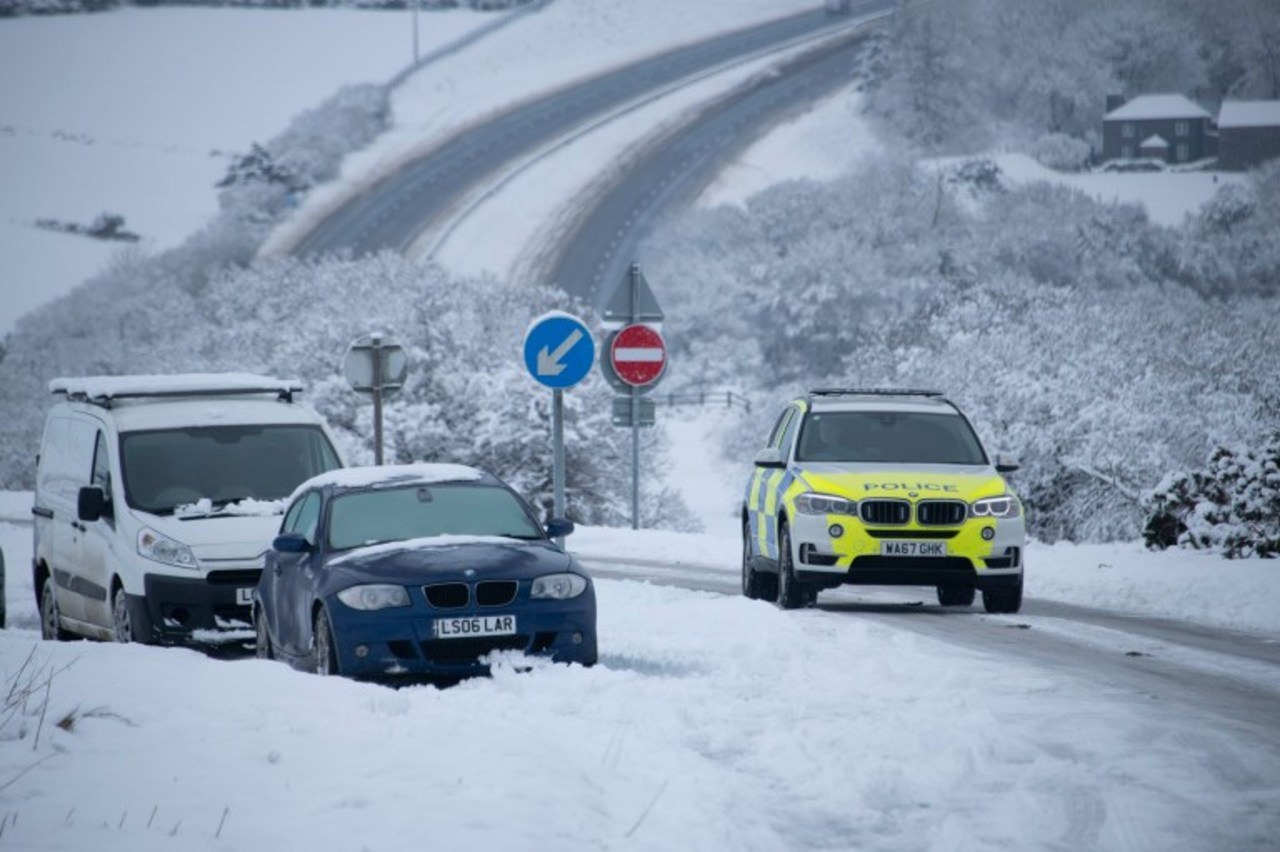car: (242, 460, 605, 692), (740, 392, 1034, 617)
truck: (28, 366, 354, 648)
